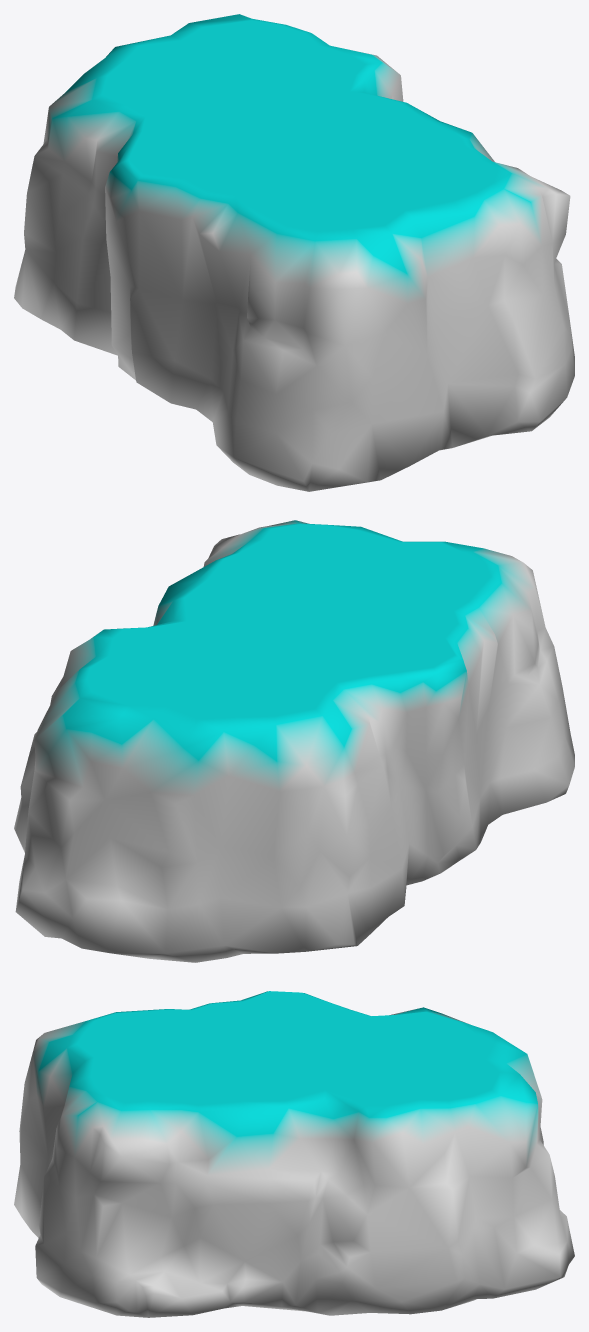
The model's file is Homeworld_Exterior_Common_Rockery_05_Lod0.fbx.
3 views of the same model, one above another, from view 1: azimuth 30°, elevation 25°; view 2: azimuth 150°, elevation 25°; view 3: azimuth 270°, elevation 25° (orthographic). The views are drawn at different scales.
Parts seen in each view (by area): view 1: Homeworld_Exterior_Common_Rockery_05_Lod0; view 2: Homeworld_Exterior_Common_Rockery_05_Lod0; view 3: Homeworld_Exterior_Common_Rockery_05_Lod0.
Part boxes in pixels (left/top/right/bottom): Homeworld_Exterior_Common_Rockery_05_Lod0: left=14, top=14, right=574, bottom=491; Homeworld_Exterior_Common_Rockery_05_Lod0: left=14, top=520, right=574, bottom=962; Homeworld_Exterior_Common_Rockery_05_Lod0: left=14, top=991, right=574, bottom=1317.
Size of what is drawn, in the model's own units: 9.59 by 6.01 by 14.89.
